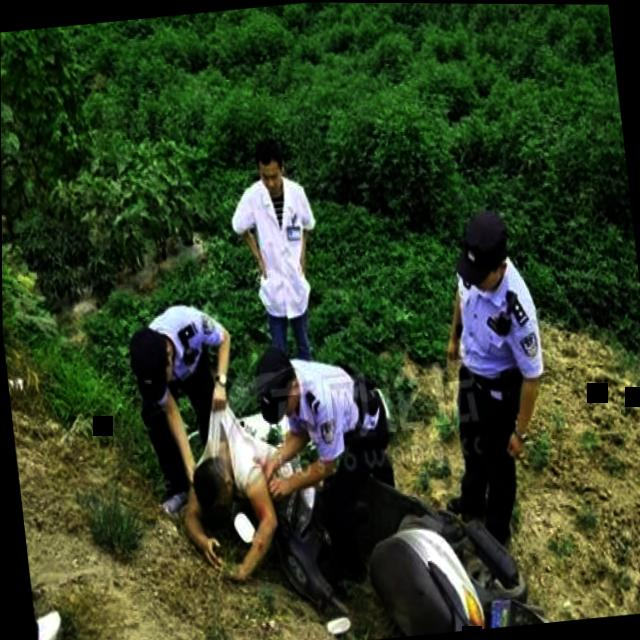Fall-Detected: (158, 397, 337, 605)
